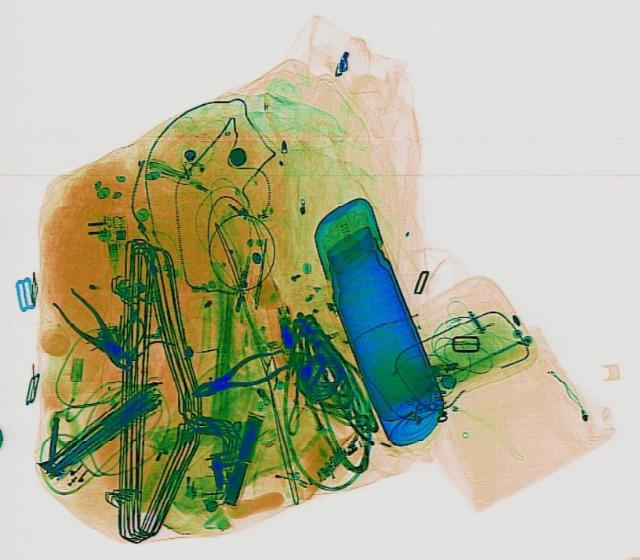Pliers: (44, 284, 142, 376), (182, 342, 294, 405)
